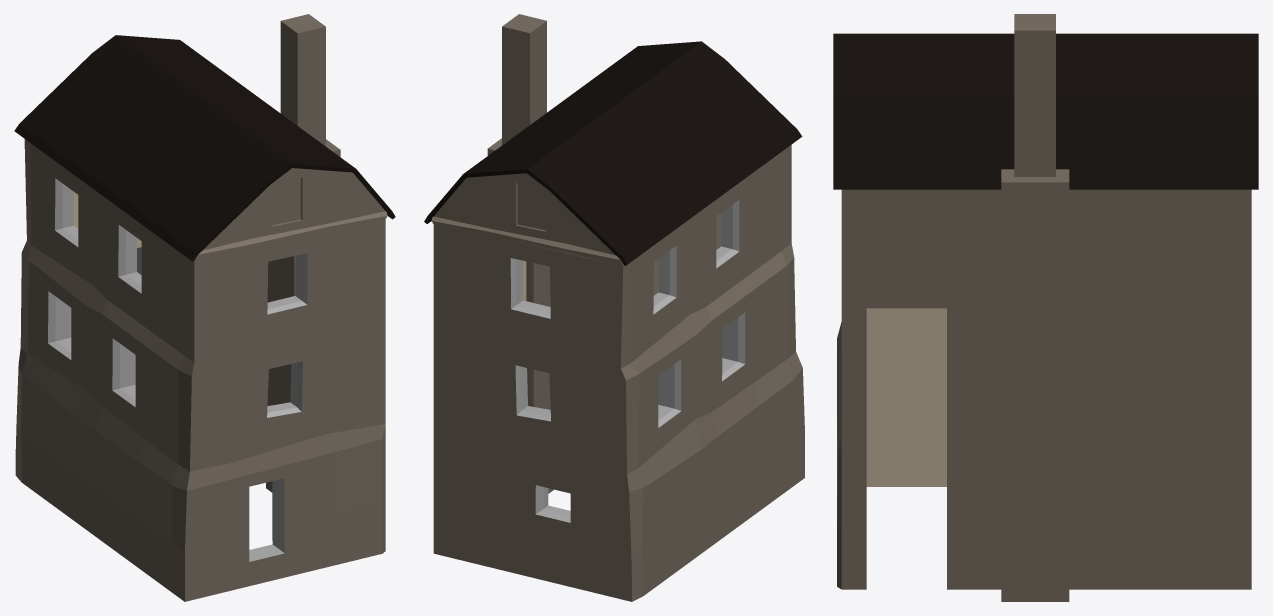
The model's file is Building_B.fbx.
3 views of the same model, side by side, from view 1: azimuth 30°, elevation 25°; view 2: azimuth 150°, elevation 25°; view 3: azimuth 270°, elevation 25° (orthographic). The views are drawn at different scales.
Visible parts, largest first — view 1: Building_B; view 2: Building_B; view 3: Building_B.
Boxes of the visible parts, box(x1,y1,x2,y2) form: Building_B: box(14, 14, 395, 601); Building_B: box(424, 14, 804, 601); Building_B: box(833, 14, 1258, 601).
Bounding box in the file's own units: 623 × 1246 × 848.
